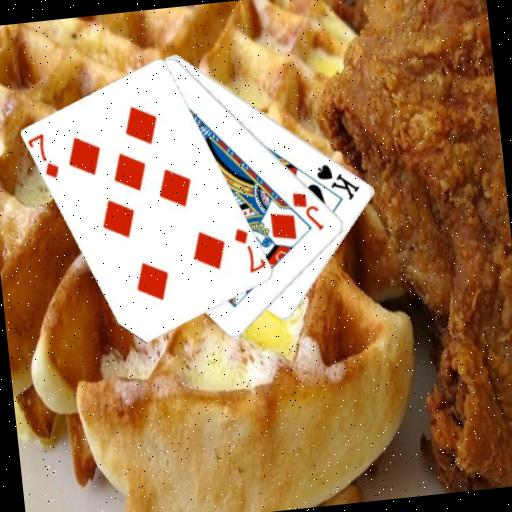7D: (230, 223, 267, 277), (27, 129, 63, 182)
JD: (288, 186, 327, 235)
KS: (312, 157, 363, 205)
